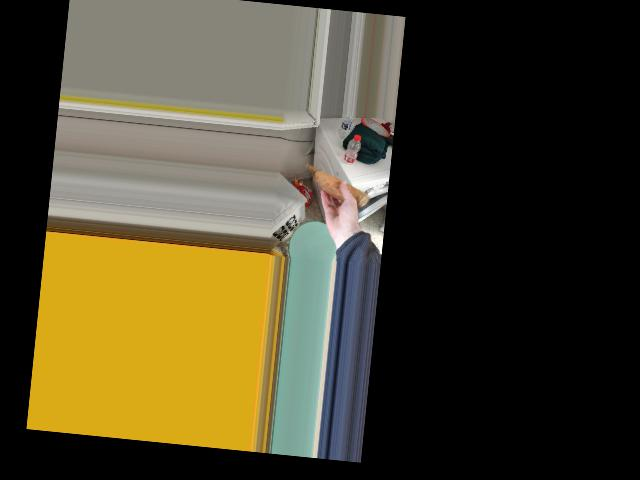sweet_potato: (317, 169, 367, 206)
